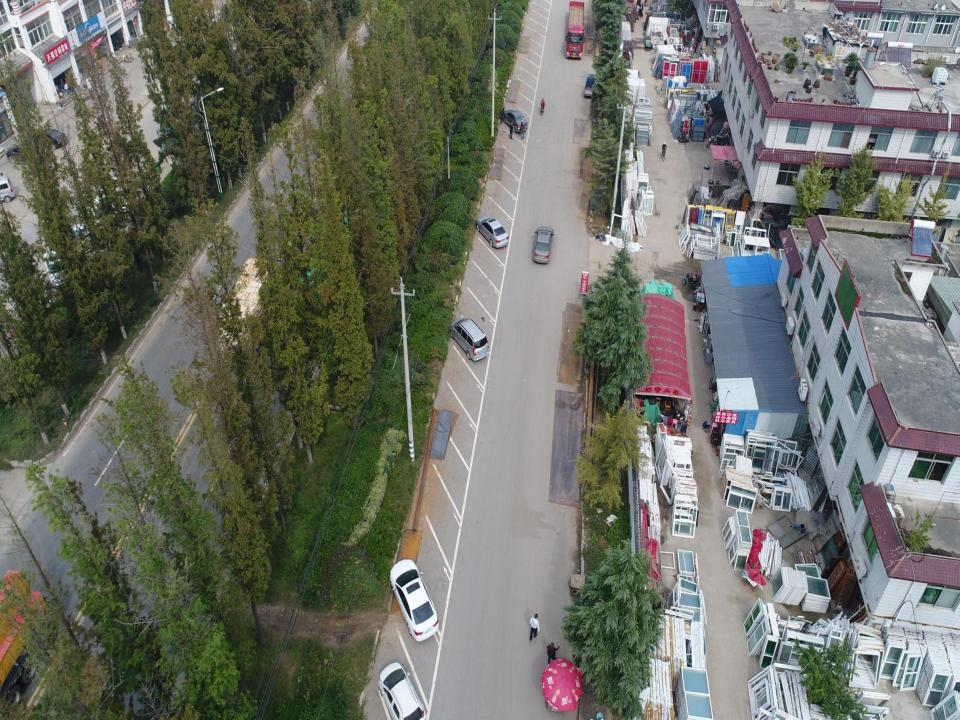car: (388, 558, 440, 642), (377, 660, 429, 719), (448, 318, 490, 362), (4, 142, 54, 168), (474, 215, 510, 248), (28, 126, 68, 152), (533, 225, 554, 265), (502, 107, 528, 133)
truck: (156, 88, 210, 156), (566, 0, 584, 61)
